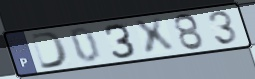0: (69, 25, 102, 64)
3: (104, 22, 138, 61), (207, 10, 240, 45)
8: (173, 12, 205, 53)
D: (29, 30, 70, 71)
X: (131, 15, 179, 57)
